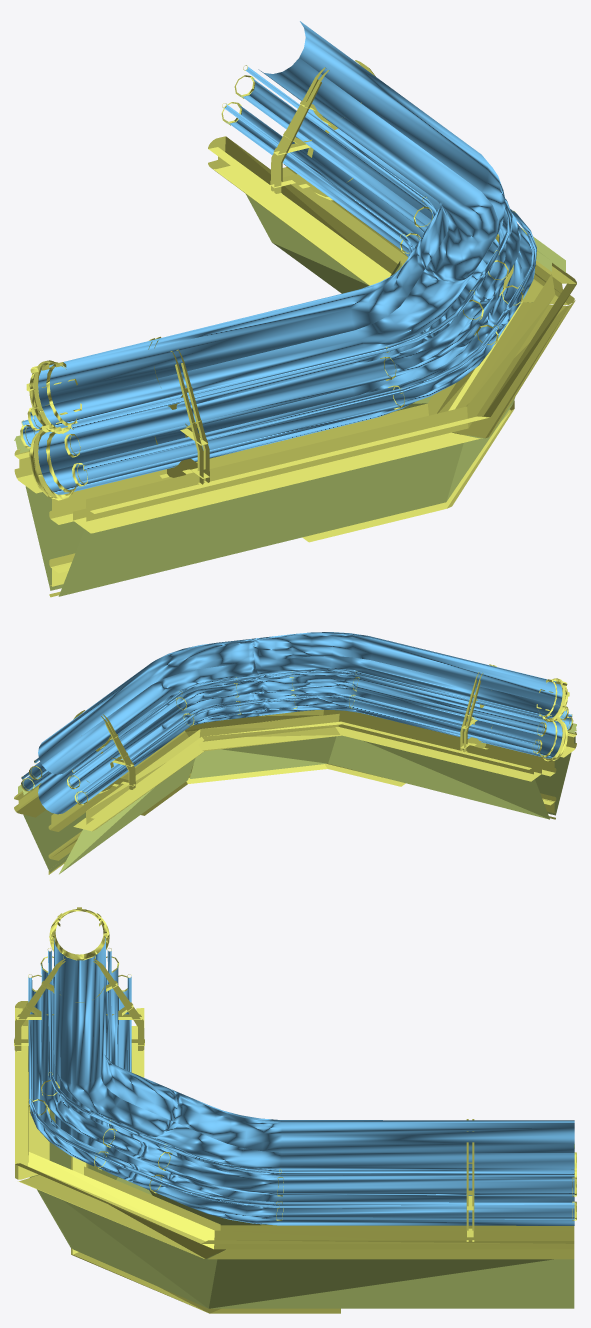
The model's file is pipeline_b_90d_100m_b.glb.
3 renders of one model, top to bottom at view 1: azimuth 30°, elevation 25°; view 2: azimuth 150°, elevation 25°; view 3: azimuth 270°, elevation 25°, orthographic. The views are drawn at different scales.
Bounding box in the file's own units: 116 × 42.86 × 114.
